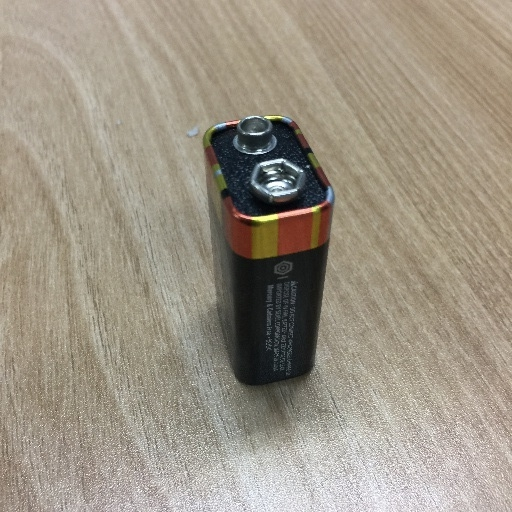Battery_3: (187, 96, 352, 407)
